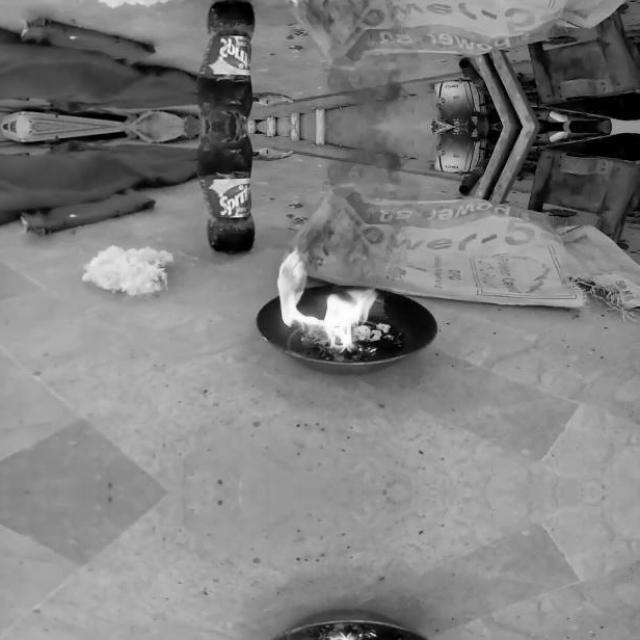smoke: (275, 245, 382, 349)
